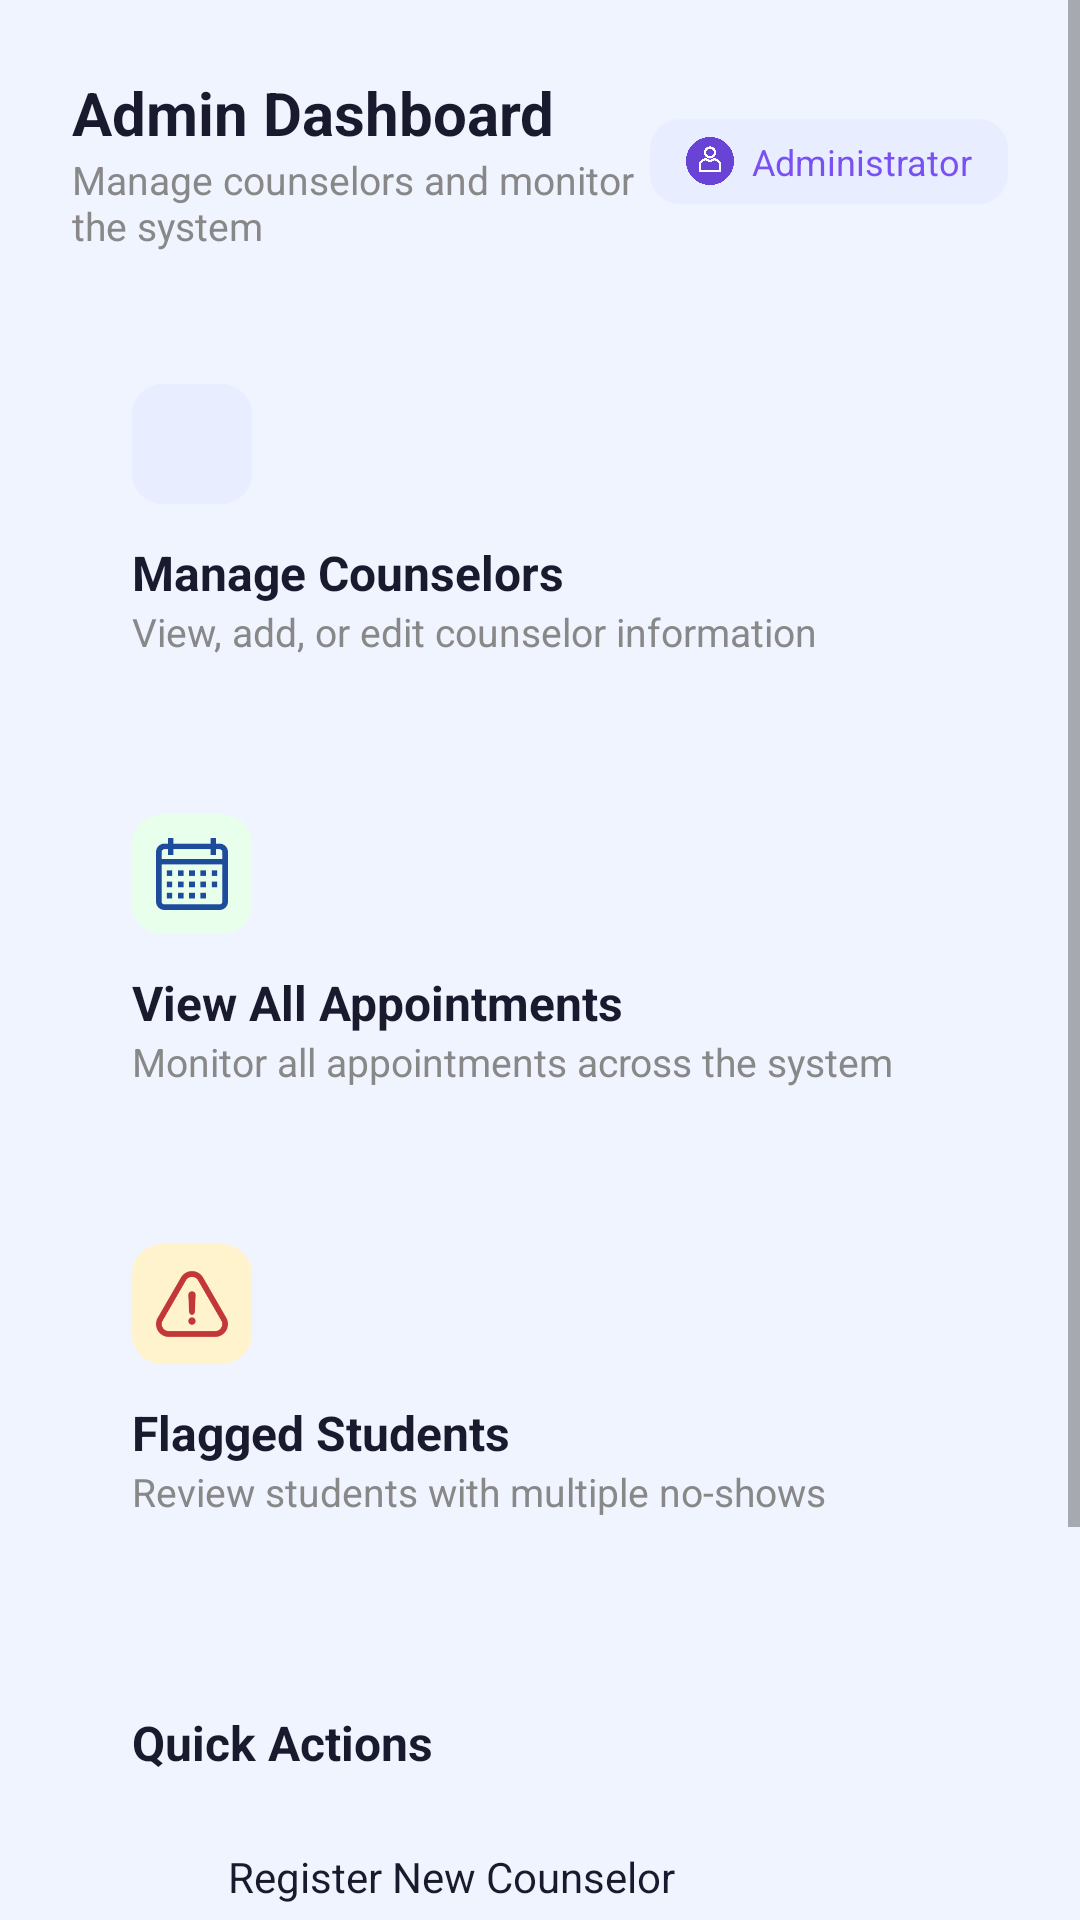

Icon bounding boxes for this 1080px×1920px phone screenshot, format BBox(x1, y1, x2, y2):
calender: BBox(132, 814, 252, 934)
warning: BBox(132, 1244, 252, 1364)
